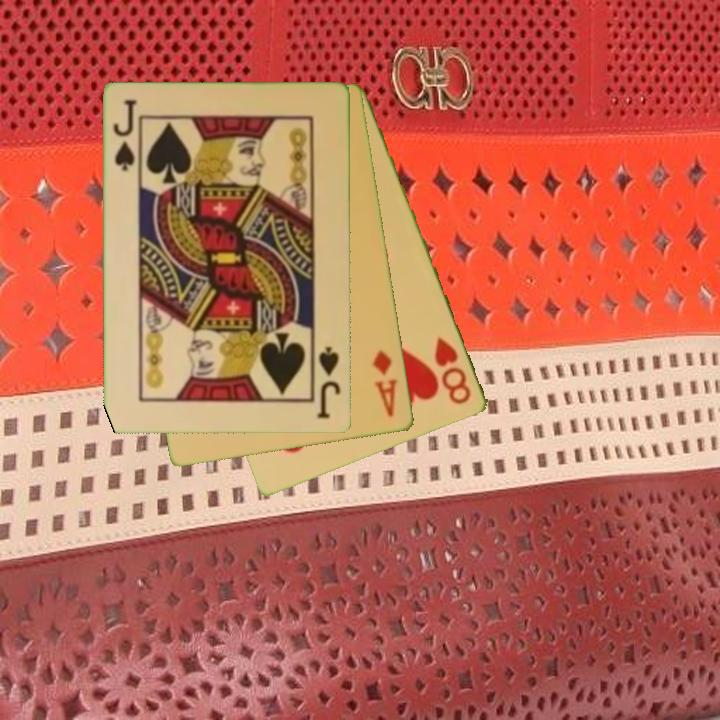8h: (431, 333, 475, 408)
Ad: (369, 346, 401, 420)
Js: (314, 343, 344, 422), (110, 96, 140, 174)
